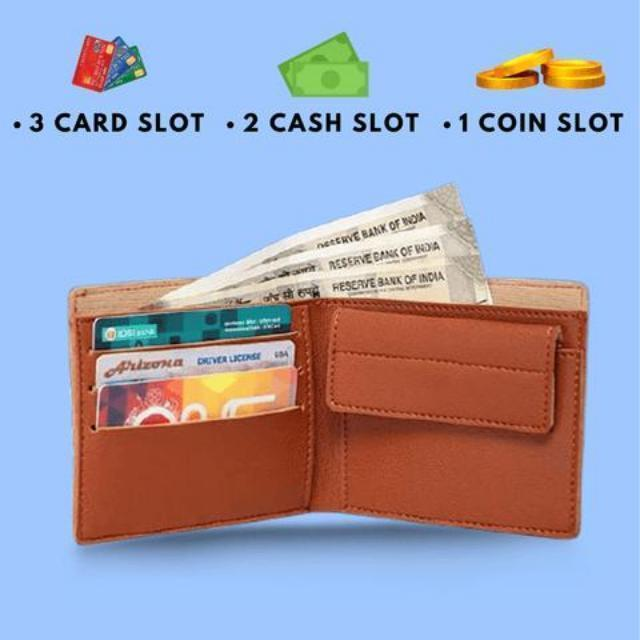wallet: (67, 257, 591, 555)
